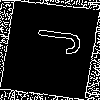J: (24, 25, 83, 56)
